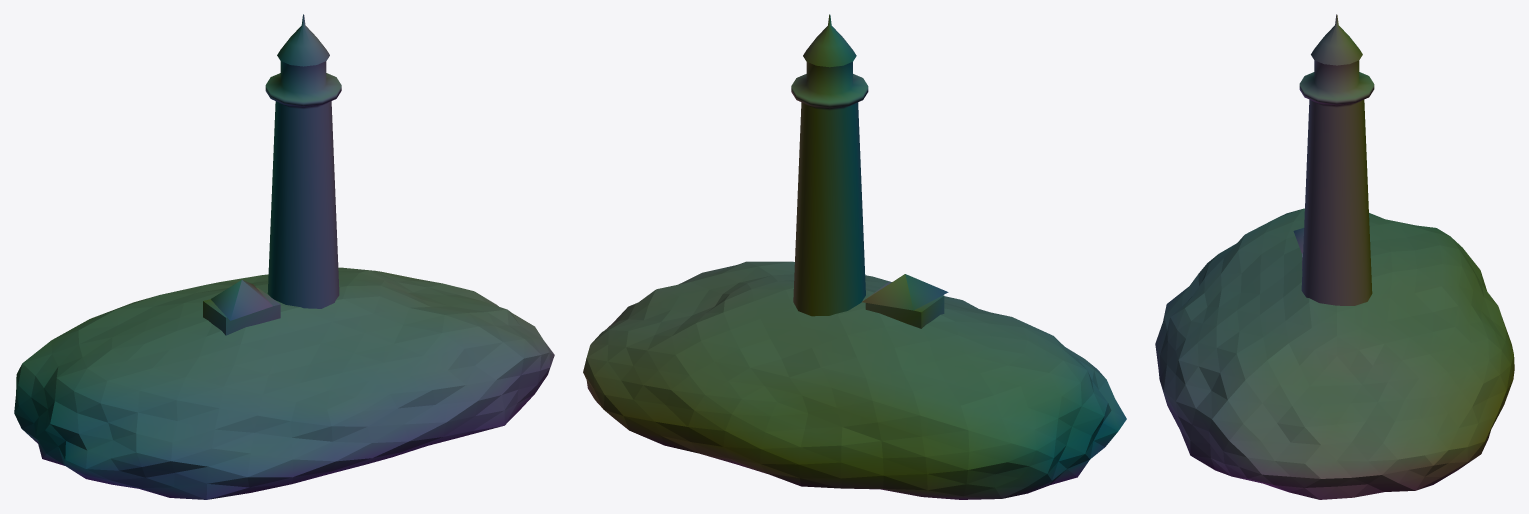
File: env-lighthouse-silhouette-far.glb
3 renders of one model, left to right at view 1: azimuth 30°, elevation 25°; view 2: azimuth 150°, elevation 25°; view 3: azimuth 270°, elevation 25°, orthographic. The views are drawn at different scales.
Visible parts, largest first — view 1: env-lighthouse-silhouette-far_lod0; view 2: env-lighthouse-silhouette-far_lod0; view 3: env-lighthouse-silhouette-far_lod0.
Boxes of the visible parts, bbox=[...] form: env-lighthouse-silhouette-far_lod0: bbox=[14, 14, 554, 499]; env-lighthouse-silhouette-far_lod0: bbox=[583, 14, 1126, 499]; env-lighthouse-silhouette-far_lod0: bbox=[1155, 14, 1514, 499].
Size of what is drawn, in the model's own units: 44.15 by 34.24 by 28.89.
